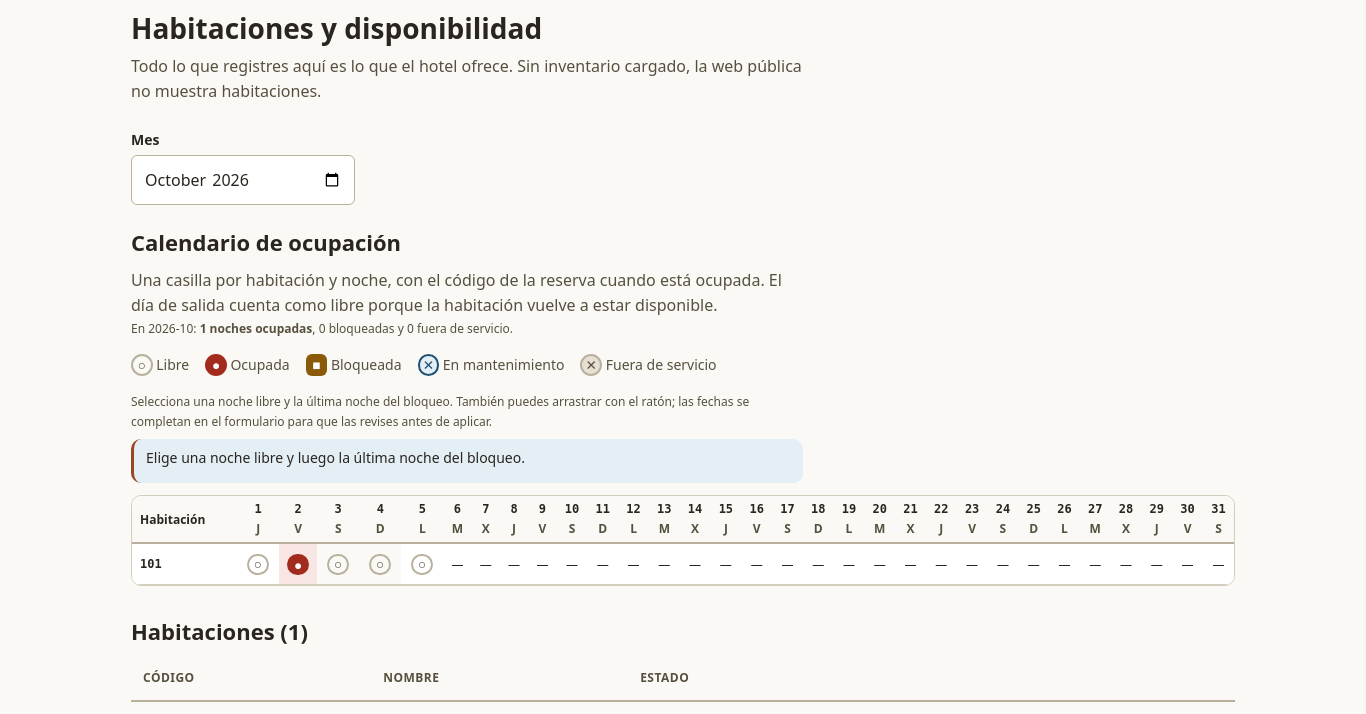
Test: prioridad del alta inicial del inventario › reinicia el inicio del calendario después de un rango que cruza una noche ocupada
Click the button named "Habitación 101, noche 2026-10-01, libre".
click(258, 564)  # box [237,544,279,584]
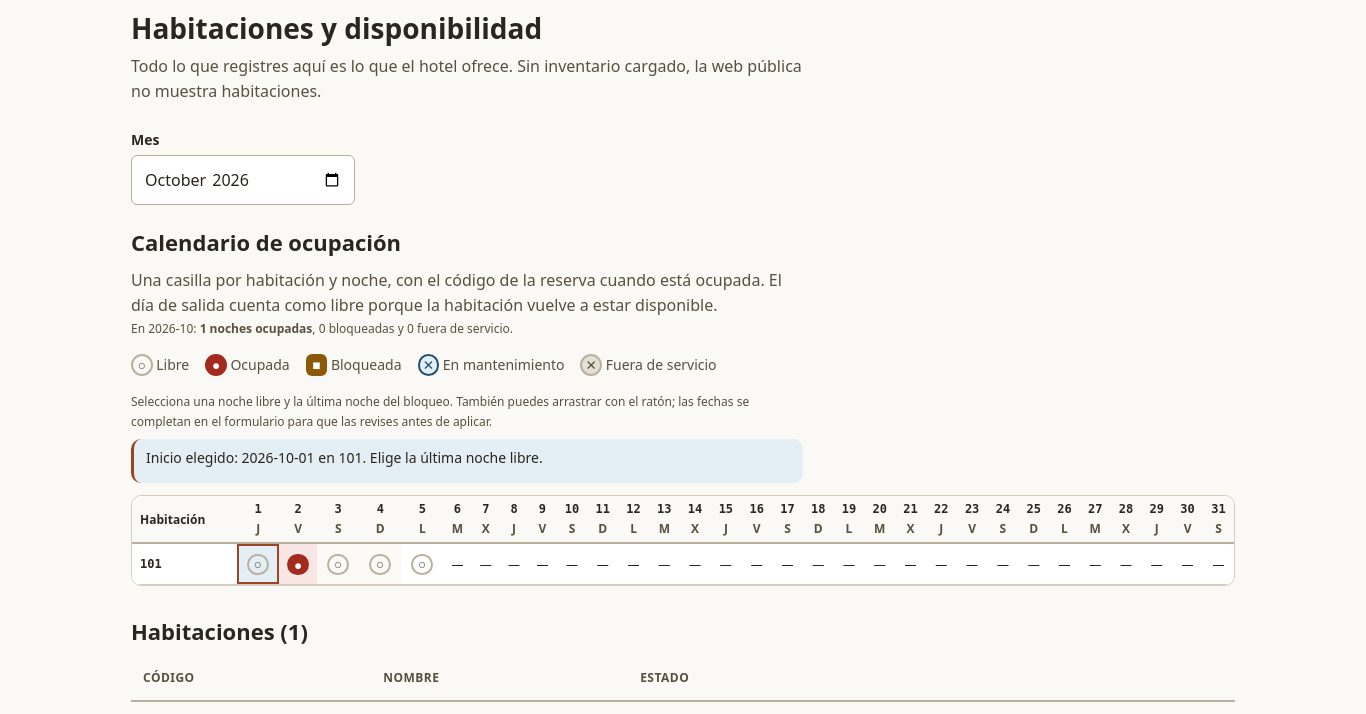
Click the button named "Habitación 101, noche 2026-10-03, libre".
click(338, 564)  # box [317,544,359,584]
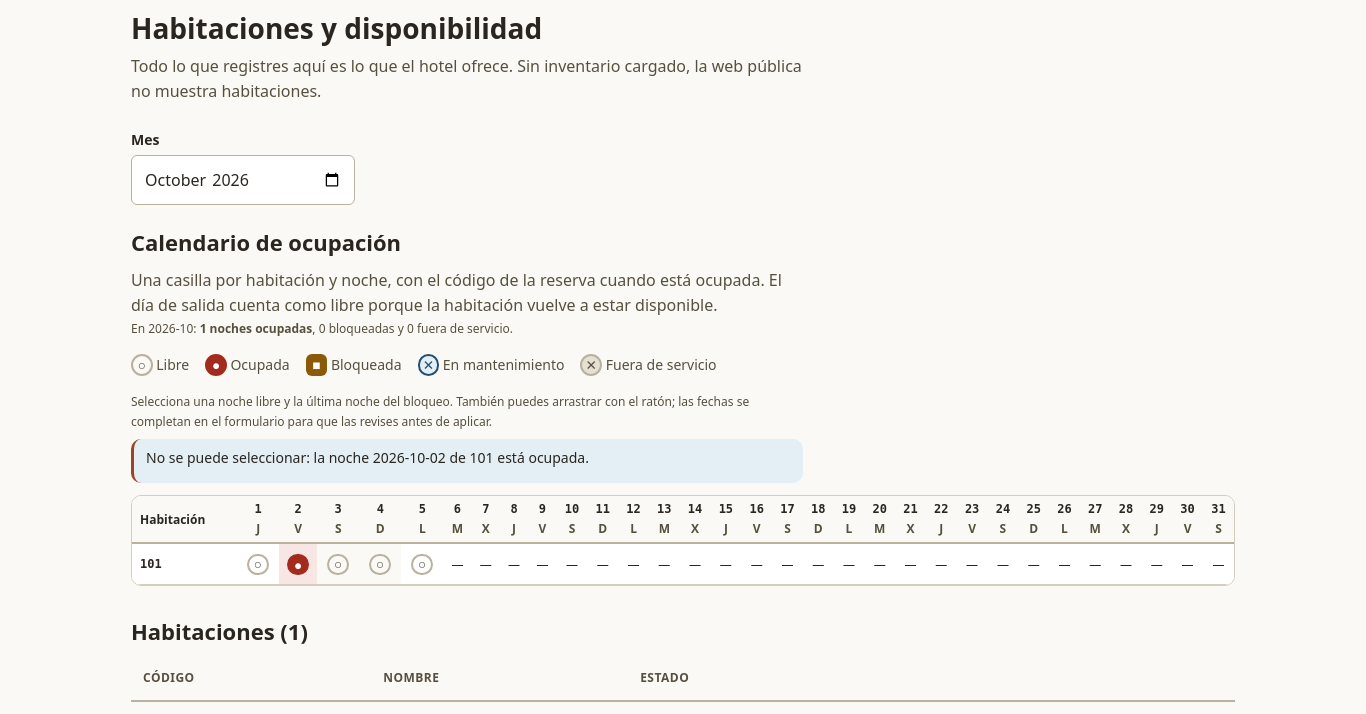
Click the button named "Habitación 101, noche 2026-10-04, libre".
click(380, 564)  # box [359,544,401,584]
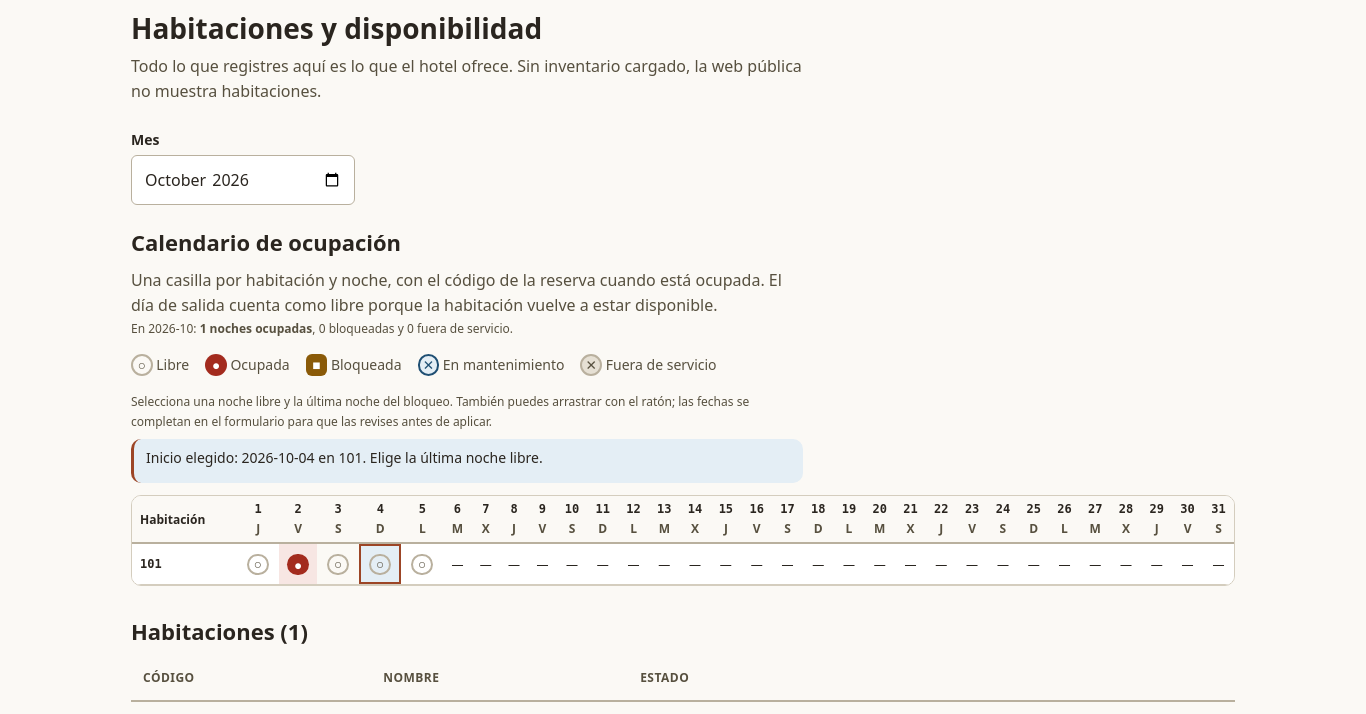
Expected: the message named "Selección de noches" shows "Inicio elegido: 2026-10-04", [146,448,543,467]
Click the button named "Habitación 101, noche 2026-10-05, libre".
click(422, 564)  # box [401,544,443,584]
(page scrolled)
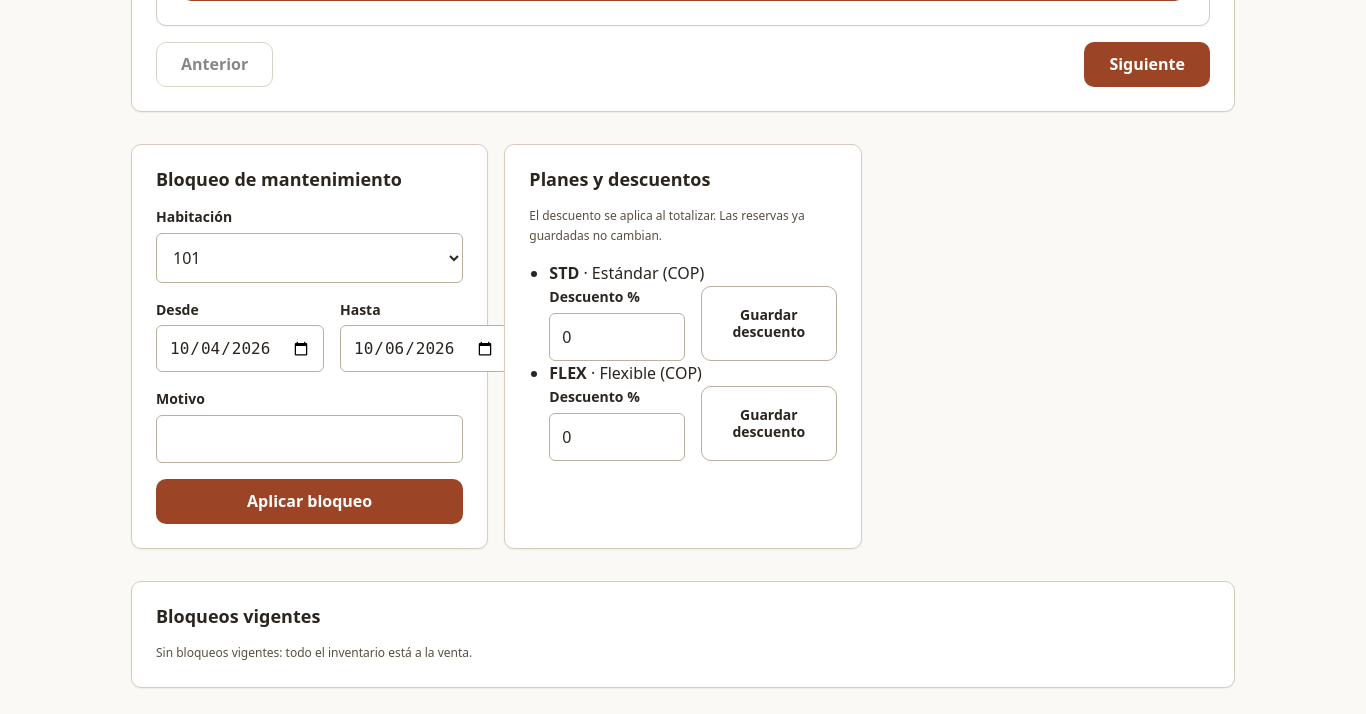
Expected: the date field labelled "Desde" holds "2026-10-04", [156,325,324,372]
Expected: the date field labelled "Hasta" holds "2026-10-06", [340,325,508,372]
